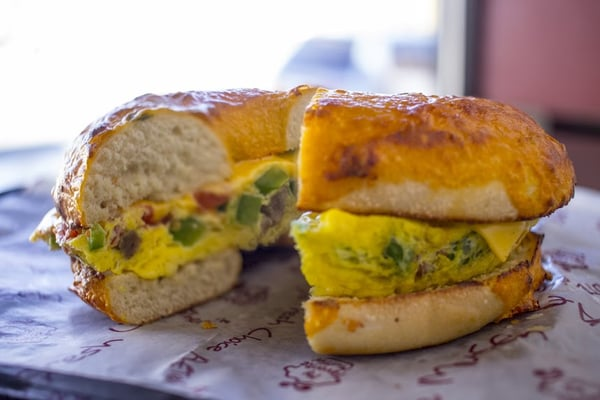soup: (44, 83, 598, 336), (291, 89, 577, 356)
